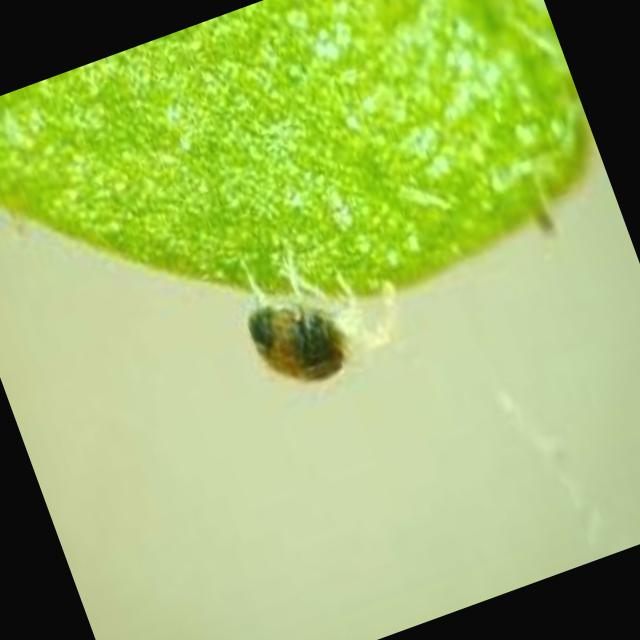spider mite: (183, 191, 461, 441)
